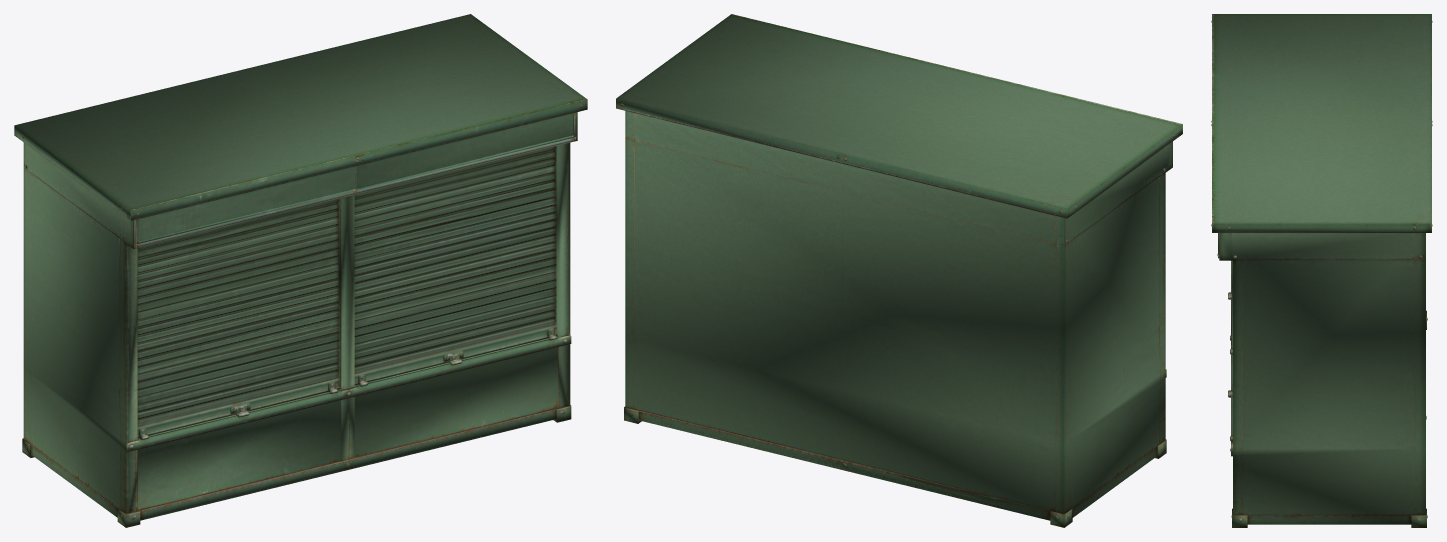
Rendered from green_metal_kiosk_3d_model.fbx.
3 views of the same model, side by side, from view 1: azimuth 30°, elevation 25°; view 2: azimuth 150°, elevation 25°; view 3: azimuth 270°, elevation 25° (orthographic). The views are drawn at different scales.
Visible parts, largest first — view 1: tripo_node_be8f64f7-f6b8-4ac8-98c1-cc5b00a20ab5; view 2: tripo_node_be8f64f7-f6b8-4ac8-98c1-cc5b00a20ab5; view 3: tripo_node_be8f64f7-f6b8-4ac8-98c1-cc5b00a20ab5.
Boxes of the visible parts, <box> form: tripo_node_be8f64f7-f6b8-4ac8-98c1-cc5b00a20ab5: <box>14,14,587,527</box>; tripo_node_be8f64f7-f6b8-4ac8-98c1-cc5b00a20ab5: <box>616,14,1182,527</box>; tripo_node_be8f64f7-f6b8-4ac8-98c1-cc5b00a20ab5: <box>1211,14,1432,527</box>.
Bounding box in the file's own units: 0.9995 × 0.6812 × 0.4448.
1 material, 1 textured.
